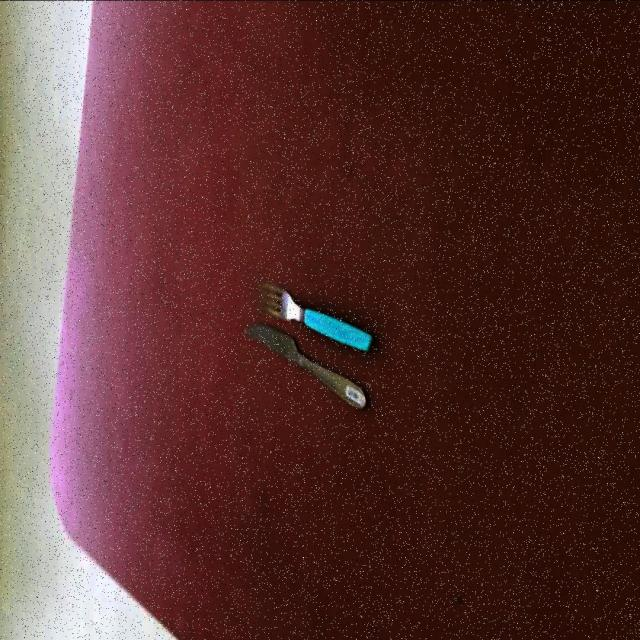Fork: (261, 279, 373, 350)
Knife: (242, 320, 367, 408)
